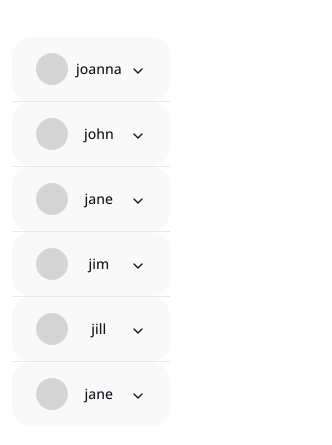
Test: SearchUserAccordion › should display "No repositories found" when there are no repositories found with the user
Click the button "joanna". click: (91, 68)
box: top-left (12, 36), bottom-right (170, 100)
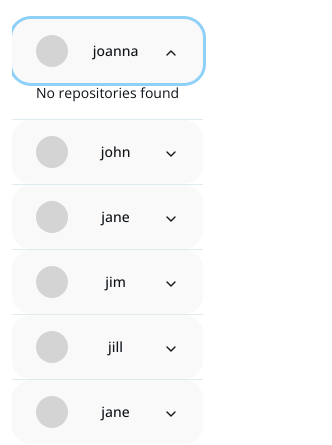
Result: the text "No repositories found" is shown at top-left (36, 82), bottom-right (179, 102)
